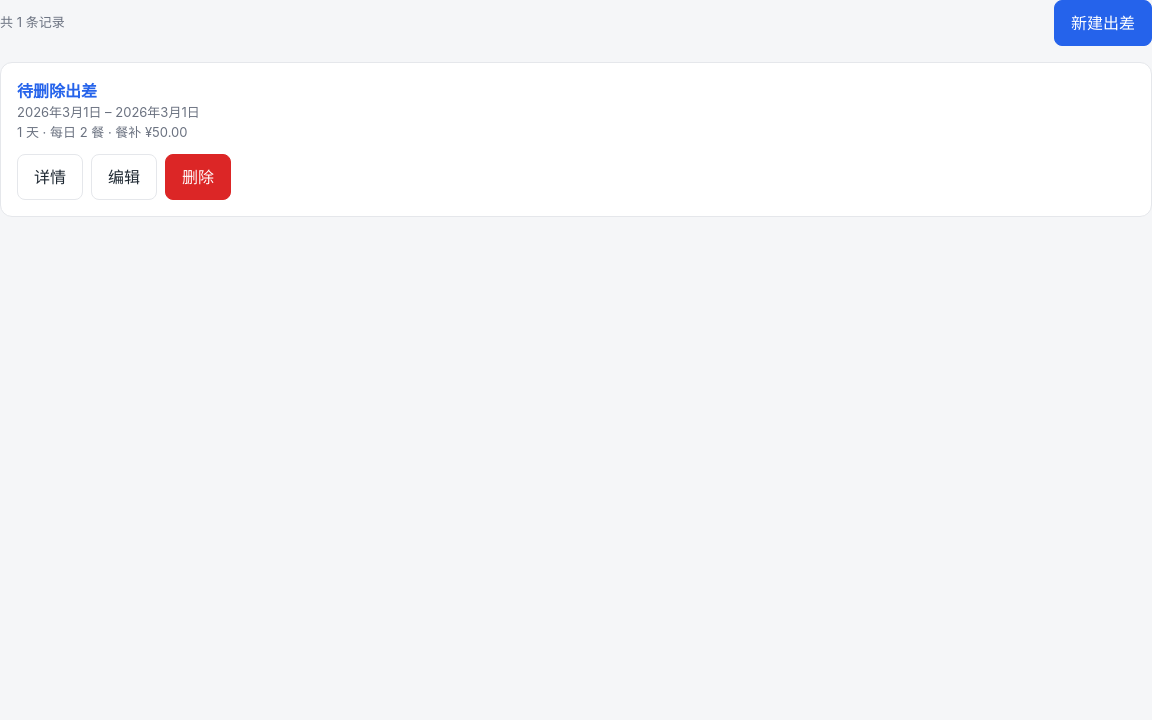
Test: 出差列表页 UI › 删除前弹出二次确认，确认后记录消失
This screenshot has width=1152, height=720.
expect the link "待删除出差" is shown: met, box x1=17 y1=79 x2=97 y2=103
Click the button "删除". click: (198, 177)
box: x1=165 y1=154 x2=231 y2=200
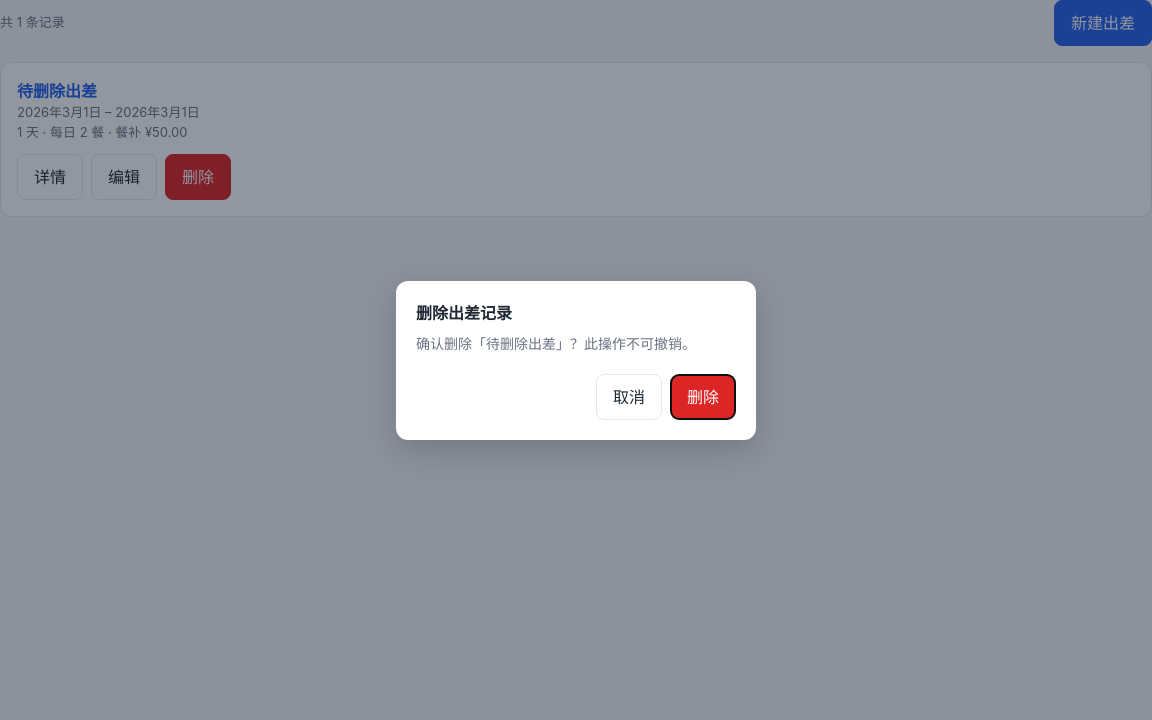
expect the heading "删除出差记录" is shown: met, box x1=416 y1=302 x2=512 y2=322
Click the button "删除". click: (703, 396)
box: x1=670 y1=374 x2=736 y2=420
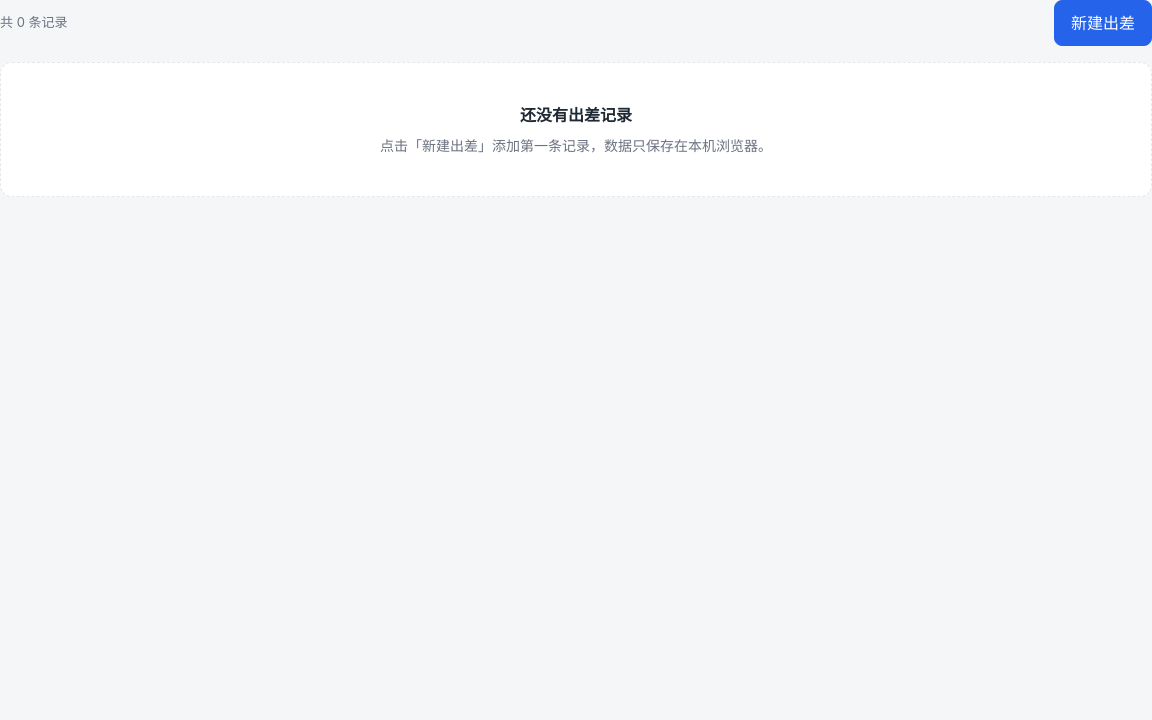
expect the link "待删除出差" is gone: met
